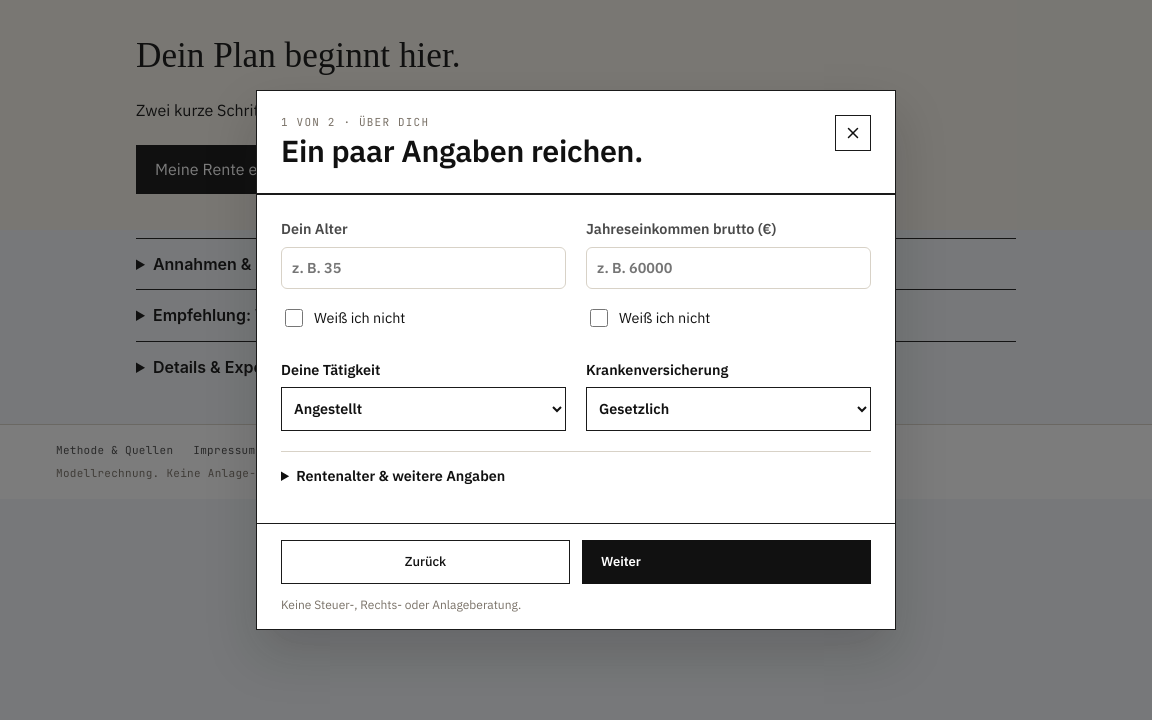
Test: Calculator onboarding hand-off › persists a contract-free plan and forwards topic selection to its contract editor
Step 1. Type "41" into the number field labelled "Dein Alter" → [424, 268], box [282,248,565,288]
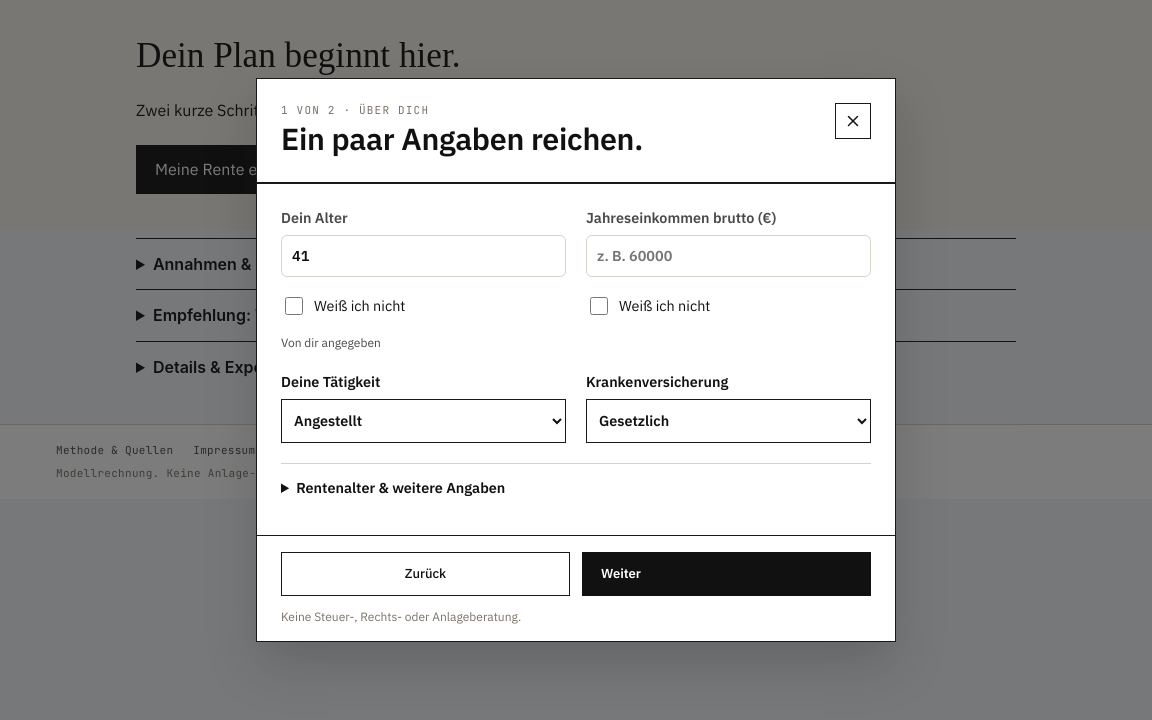
Step 2. Type "62000" into the number field labelled "Jahreseinkommen brutto (€)" → [728, 256], box [587,236,870,276]
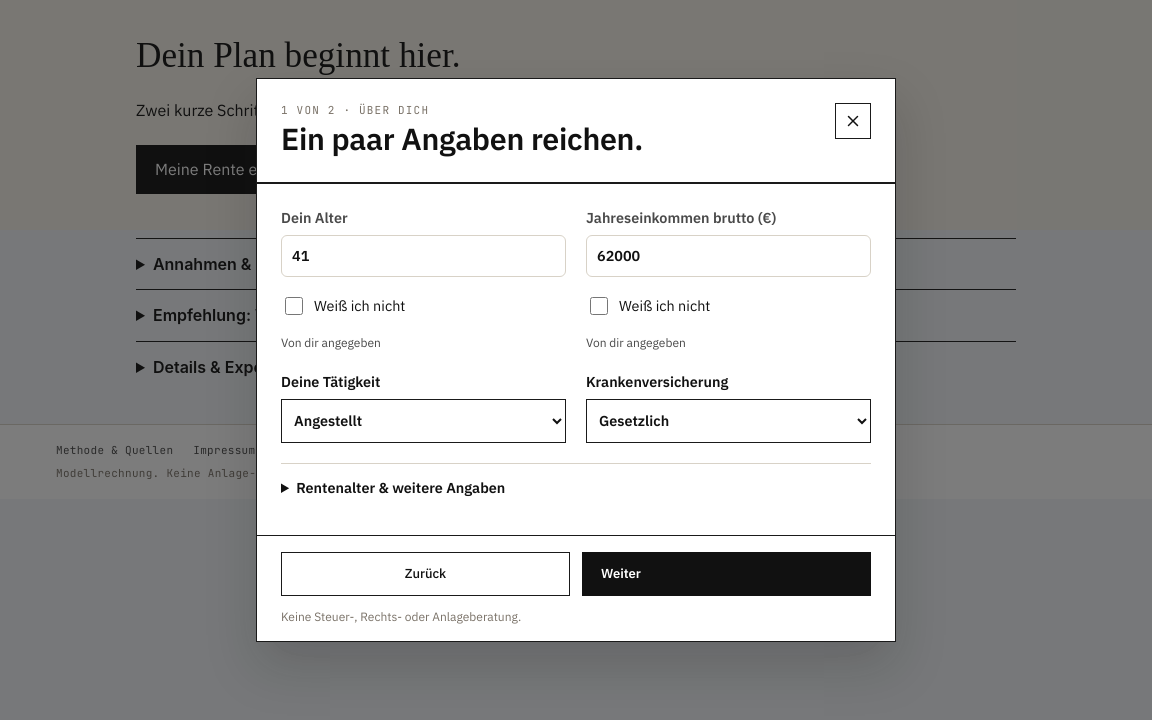
Step 3. Click the button "Weiter" → [621, 574], box [582,552,871,596]
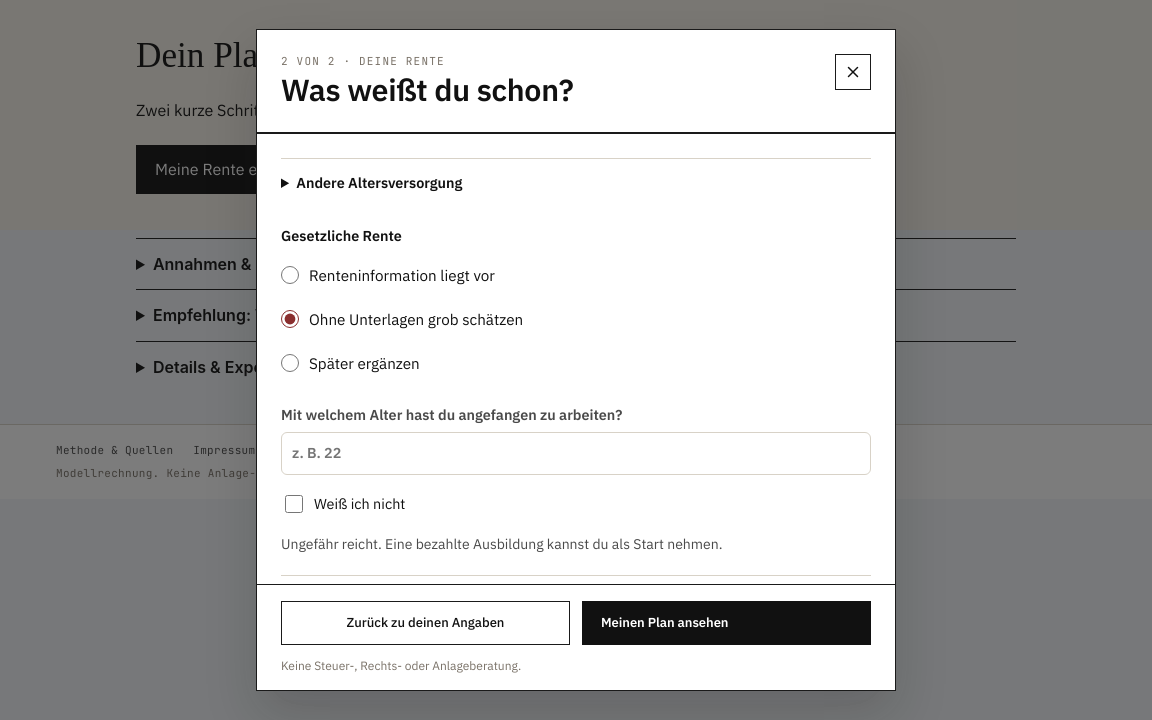
Step 4. Click the radio button labelled "Später ergänzen" → [290, 363], box [281,354,299,372]
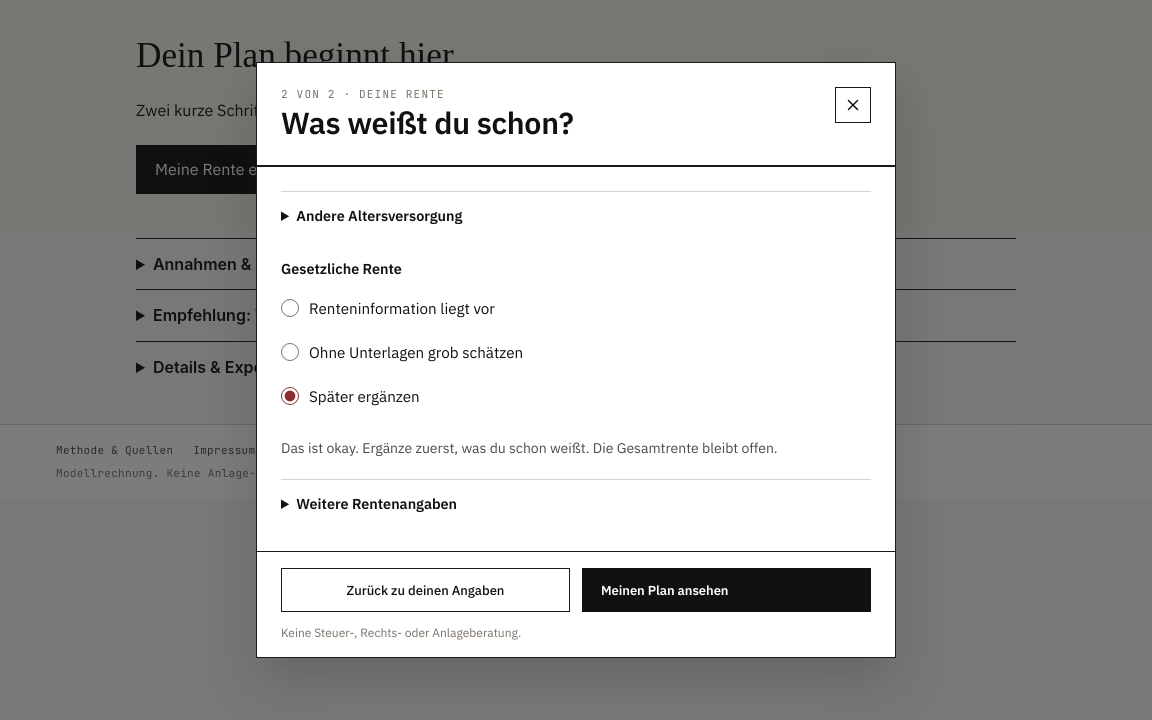
Step 5. Click the button "Meinen Plan ansehen" → [726, 590], box [582,568,871,612]
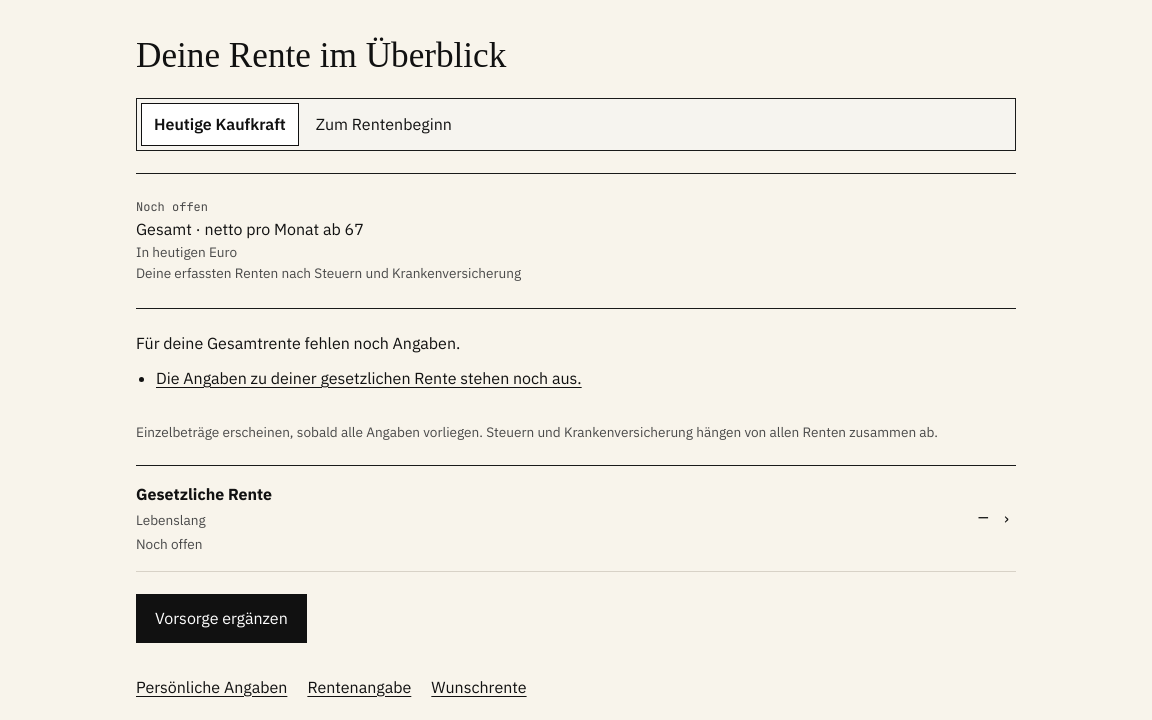
Check: the dialog is gone
